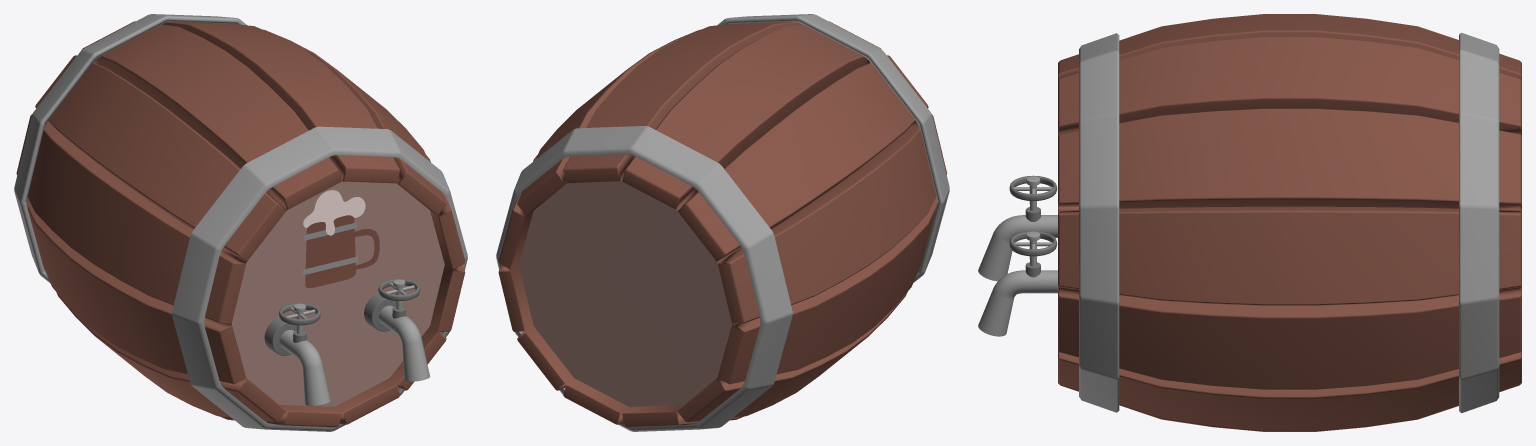
The model's file is Store_16_Big_Barrel_wiyh_taps_1.glb.
3 views of the same model, side by side, from view 1: azimuth 30°, elevation 25°; view 2: azimuth 150°, elevation 25°; view 3: azimuth 270°, elevation 25° (orthographic). The views are drawn at different scales.
Visible parts, largest first — view 1: Store_16_Big_Barrel_wiyh_taps_1; view 2: Store_16_Big_Barrel_wiyh_taps_1; view 3: Store_16_Big_Barrel_wiyh_taps_1.
Boxes of the visible parts, box(x1,y1,x2,y2) form: Store_16_Big_Barrel_wiyh_taps_1: box(14, 14, 467, 431); Store_16_Big_Barrel_wiyh_taps_1: box(496, 14, 949, 431); Store_16_Big_Barrel_wiyh_taps_1: box(978, 14, 1521, 431).
Bounding box in the file's own units: 2.64 × 2.64 × 3.44.
1 material, 1 textured.
